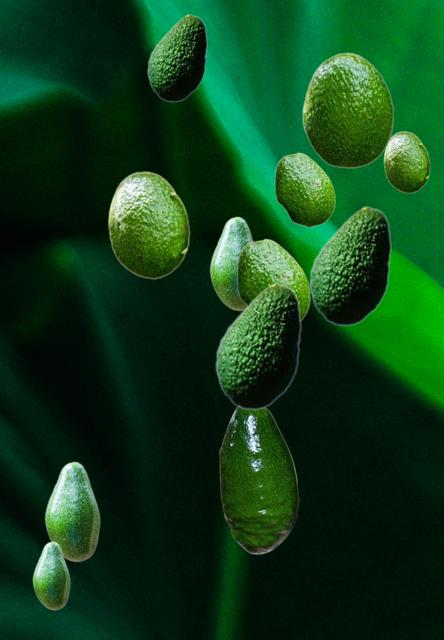avocado: (219, 407, 298, 553), (215, 283, 300, 409), (302, 52, 393, 167), (309, 206, 390, 325), (107, 171, 189, 278), (236, 238, 309, 321), (44, 461, 99, 561), (147, 14, 206, 101), (274, 152, 334, 226), (209, 216, 253, 310), (383, 131, 429, 192), (32, 541, 69, 609)
